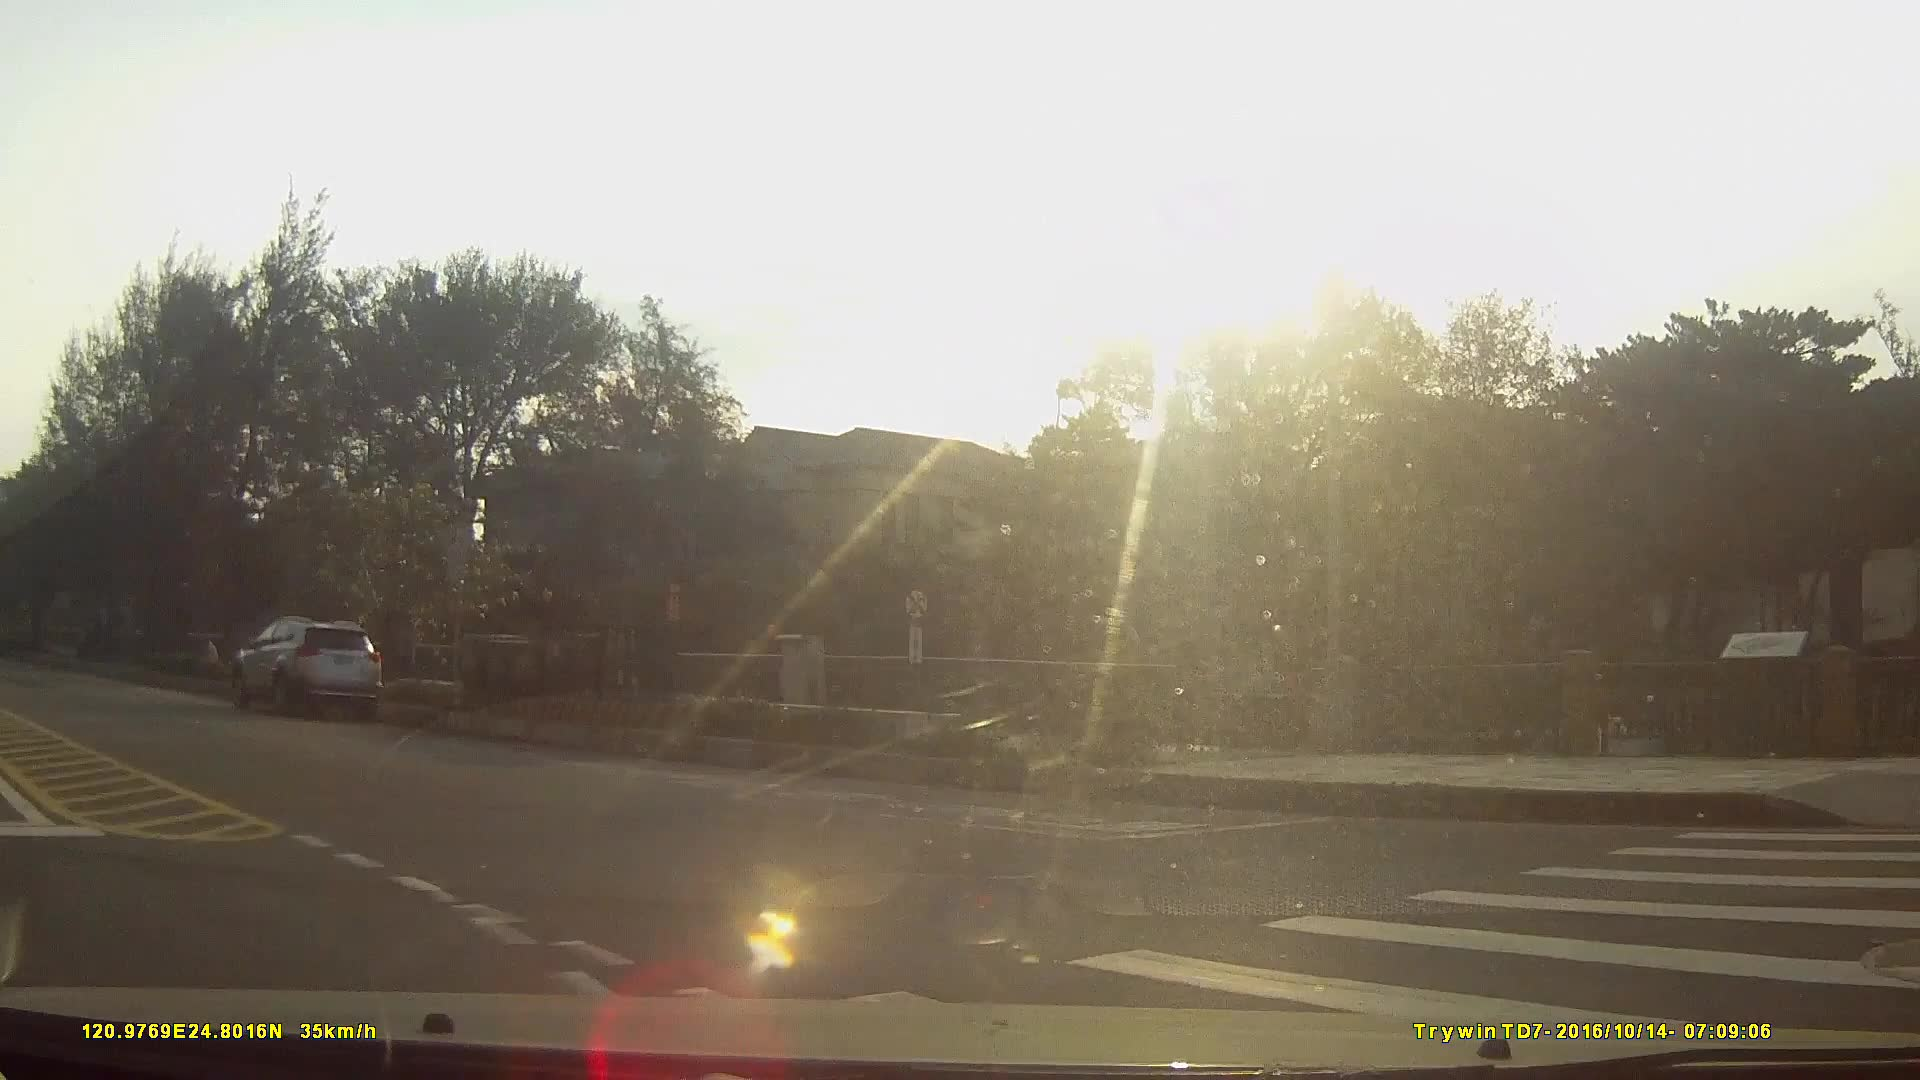vehicle: (229, 616, 380, 725)
